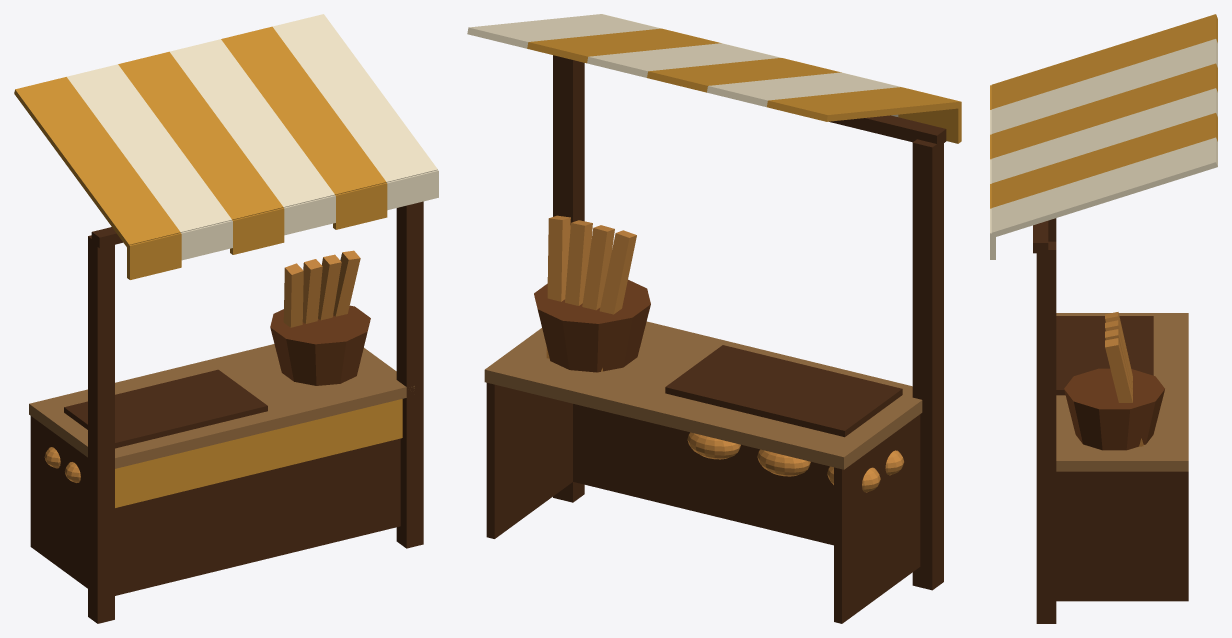
Rendered from shop_bakery_stall.gltf.
The picture shows the model from 3 angles, left to right: view 1: azimuth 30°, elevation 25°; view 2: azimuth 150°, elevation 25°; view 3: azimuth 270°, elevation 25°; orthographic projection. The views are drawn at different scales.
Visible parts, largest first — view 1: ShopBakeryStallShopWood, ShopBakeryStallShopCloth, ShopBakeryStallShopCream, ShopBakeryStallShopWoodLight, ShopBakeryStallShopLeather, ShopBakeryStallShopBread; view 2: ShopBakeryStallShopWood, ShopBakeryStallShopWoodLight, ShopBakeryStallShopCloth, ShopBakeryStallShopCream, ShopBakeryStallShopBread, ShopBakeryStallShopLeather; view 3: ShopBakeryStallShopWood, ShopBakeryStallShopCream, ShopBakeryStallShopCloth, ShopBakeryStallShopWoodLight, ShopBakeryStallShopLeather, ShopBakeryStallShopBread.
Part boxes in pixels (x1=…): ShopBakeryStallShopWood: x1=30, y1=201, x2=423, y2=623; ShopBakeryStallShopCloth: x1=14, y1=26, x2=402, y2=507; ShopBakeryStallShopCream: x1=67, y1=14, x2=438, y2=260; ShopBakeryStallShopWoodLight: x1=29, y1=344, x2=414, y2=468; ShopBakeryStallShopLeather: x1=270, y1=305, x2=370, y2=385; ShopBakeryStallShopBread: x1=44, y1=250, x2=360, y2=482; ShopBakeryStallShopWood: x1=486, y1=55, x2=946, y2=623; ShopBakeryStallShopWoodLight: x1=484, y1=321, x2=922, y2=469; ShopBakeryStallShopCloth: x1=527, y1=28, x2=961, y2=143; ShopBakeryStallShopCream: x1=467, y1=14, x2=901, y2=116; ShopBakeryStallShopBread: x1=546, y1=215, x2=903, y2=492; ShopBakeryStallShopLeather: x1=534, y1=279, x2=650, y2=372; ShopBakeryStallShopWood: x1=1033, y1=218, x2=1188, y2=623; ShopBakeryStallShopCream: x1=990, y1=39, x2=1217, y2=259; ShopBakeryStallShopCloth: x1=990, y1=14, x2=1217, y2=208; ShopBakeryStallShopWoodLight: x1=1056, y1=313, x2=1188, y2=471; ShopBakeryStallShopLeather: x1=1064, y1=368, x2=1164, y2=450; ShopBakeryStallShopBread: x1=1105, y1=312, x2=1143, y2=446.
Size of what is drawn, in the model's own units: 1.9 by 2.59 by 1.17.
